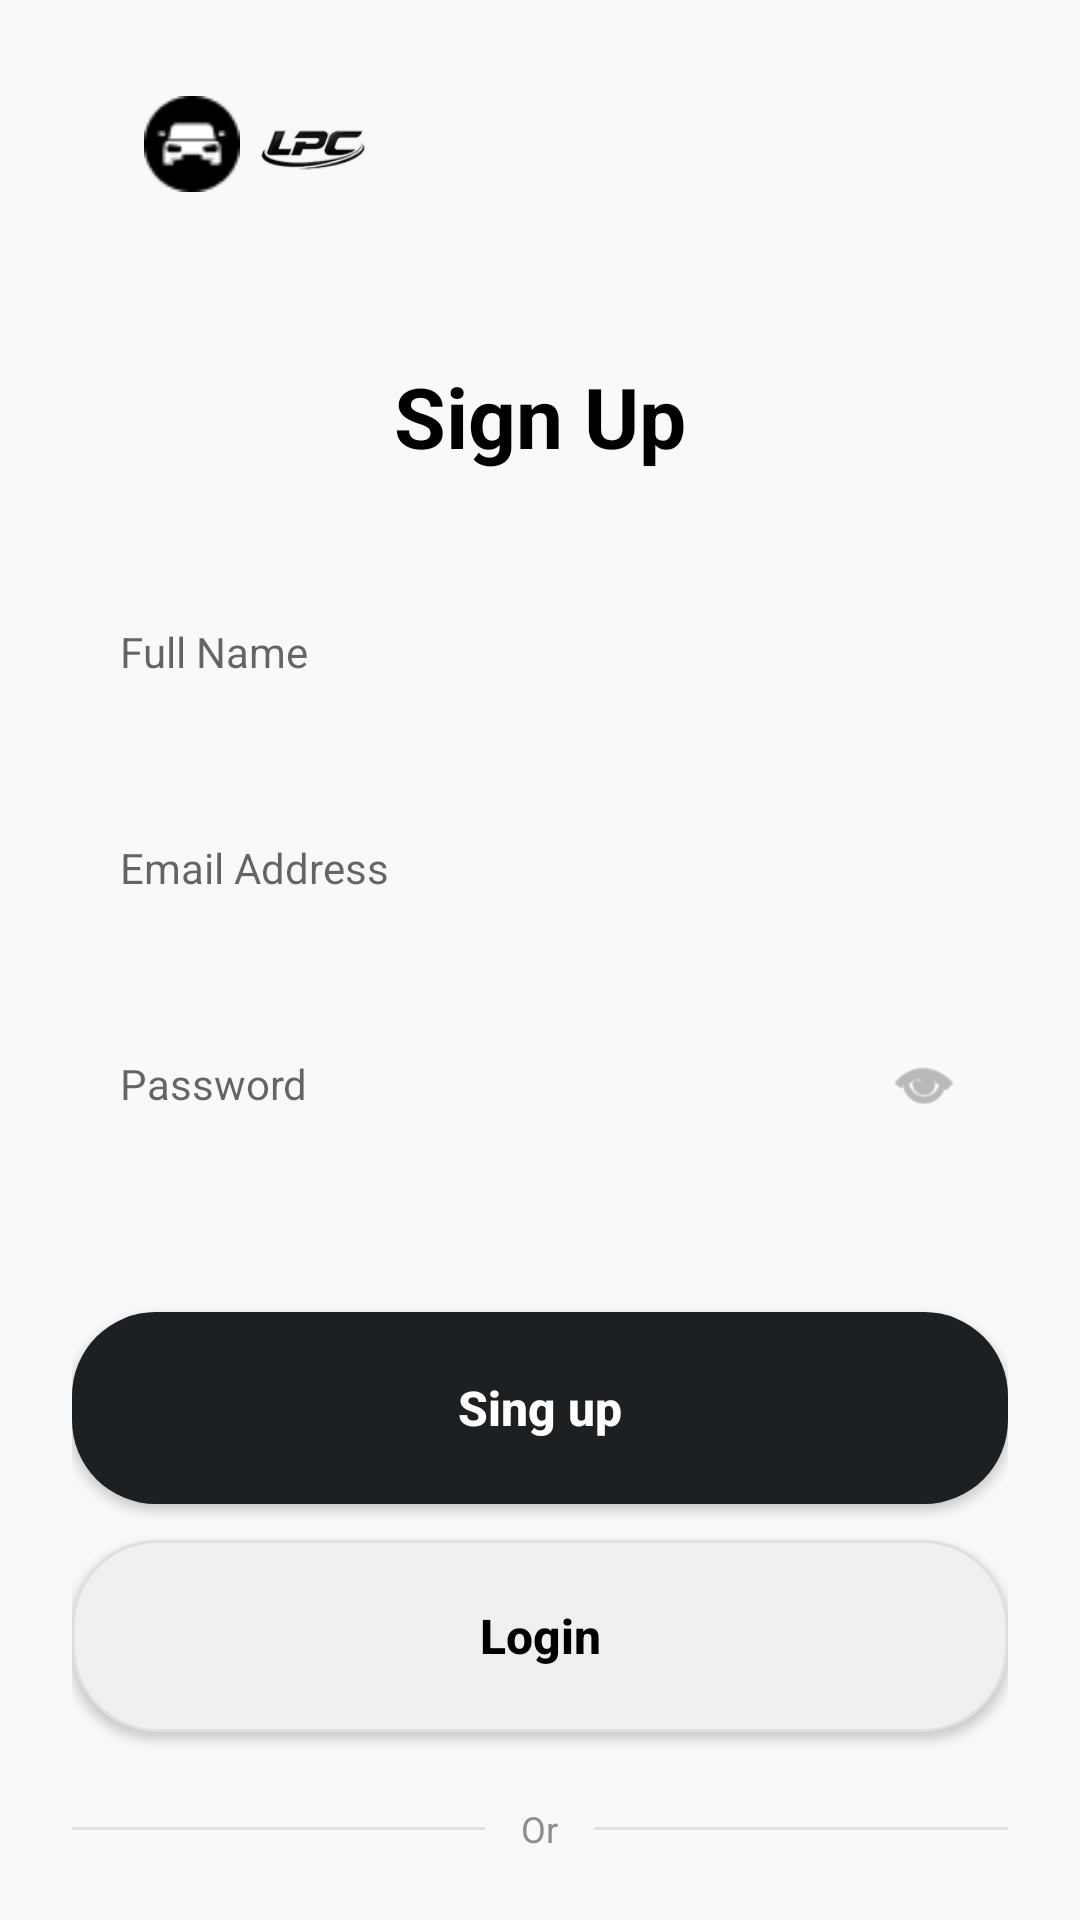

Locate icon controls on the screen. Image size 1080px x 1920px, boxes as (x1, y1, x2, y2).
view: (895, 1068, 953, 1104)
